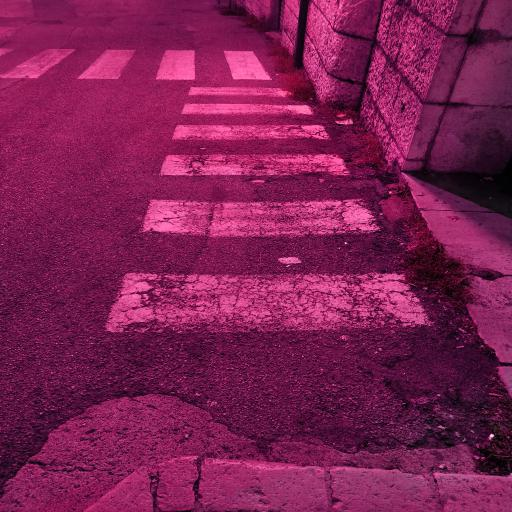crosswalk: (131, 146, 393, 250), (174, 84, 324, 119)
